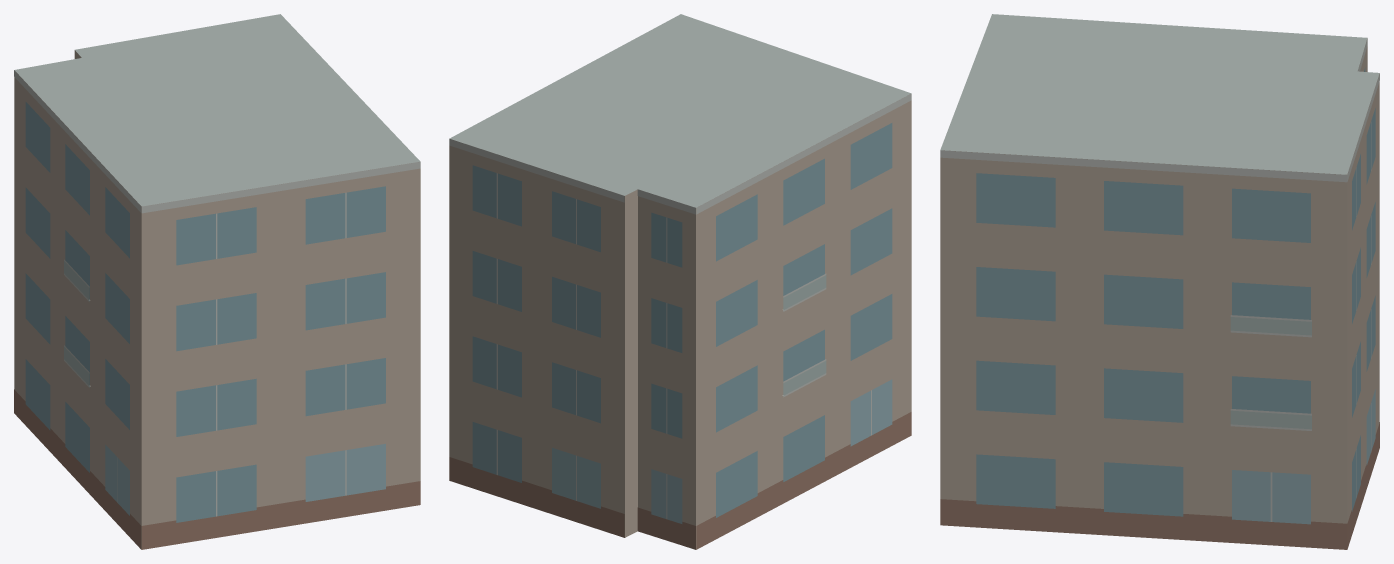
Rendered from survey-upis-33024948.glb.
3 views of the same model, side by side, from view 1: azimuth 30°, elevation 25°; view 2: azimuth 150°, elevation 25°; view 3: azimuth 270°, elevation 25° (orthographic). The views are drawn at different scales.
Visible parts, largest first — view 1: survey-upis-33024948.tmp; view 2: survey-upis-33024948.tmp; view 3: survey-upis-33024948.tmp.
Boxes of the visible parts, <box> form: survey-upis-33024948.tmp: <box>14,14,420,549</box>; survey-upis-33024948.tmp: <box>449,14,911,549</box>; survey-upis-33024948.tmp: <box>940,14,1379,549</box>.
Size of the model in its own units: 11.23 by 12.2 by 12.97.
